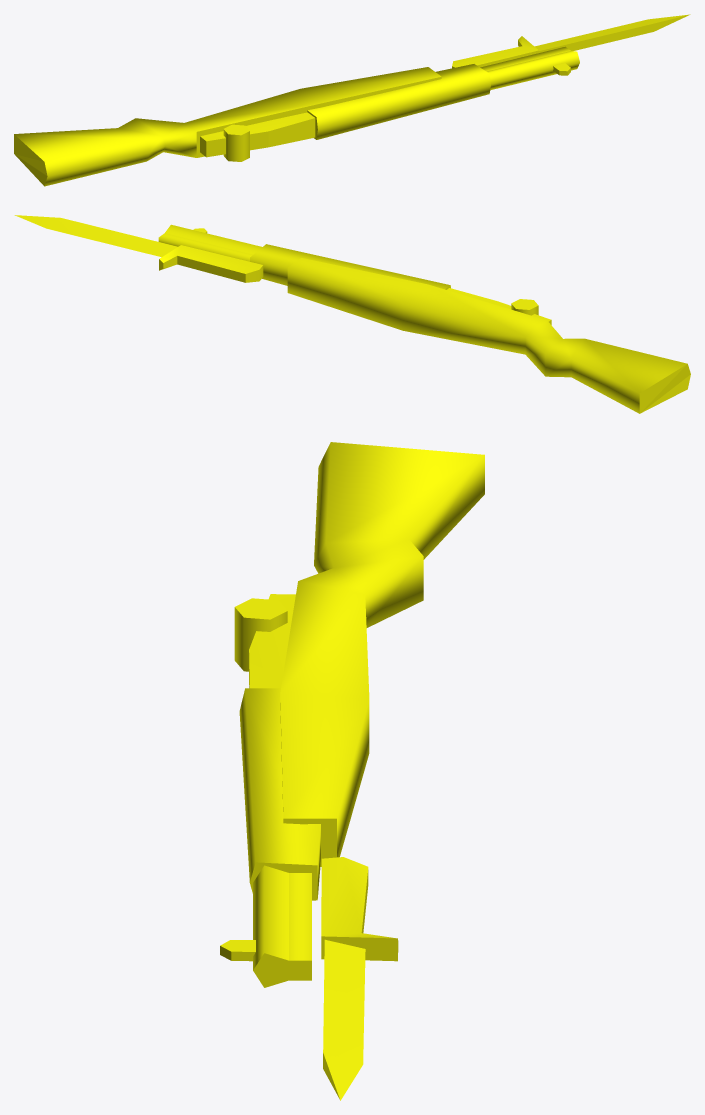
The model's file is weapon_garandM1_bayonet.glb.
The picture shows the model from 3 angles, top to bottom: view 1: azimuth 30°, elevation 25°; view 2: azimuth 150°, elevation 25°; view 3: azimuth 270°, elevation 25°; orthographic projection. The views are drawn at different scales.
Parts seen in each view (by area): view 1: weapon_garandM1_bayonet; view 2: weapon_garandM1_bayonet; view 3: weapon_garandM1_bayonet.
Part boxes in pixels (x1,y1,x2,y2): weapon_garandM1_bayonet: (14, 14, 690, 186); weapon_garandM1_bayonet: (14, 215, 690, 413); weapon_garandM1_bayonet: (220, 442, 484, 1100).
Bounding box in the file's own units: 2.42 × 0.1106 × 0.4283.
1 material, 1 textured.
